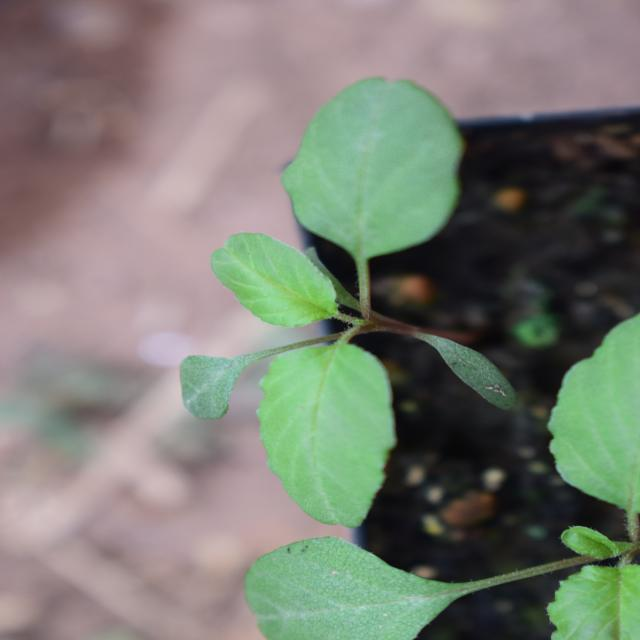pigweed: (106, 163, 574, 489)
